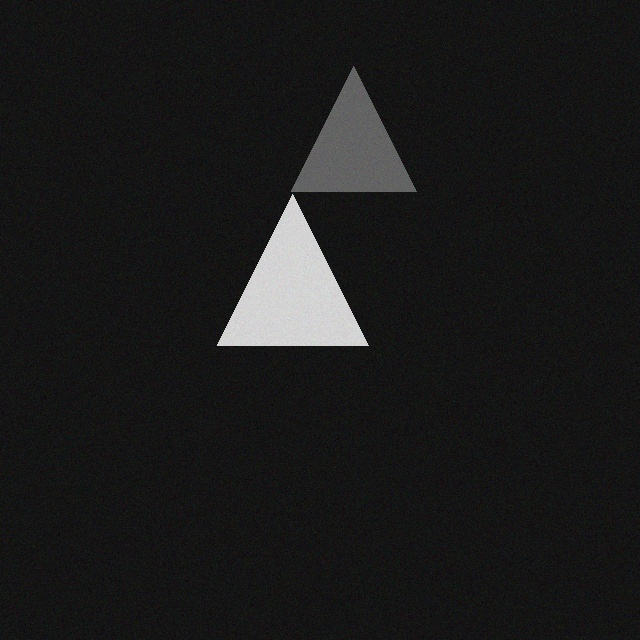triangle: (207, 186, 358, 337), (281, 58, 406, 183)
